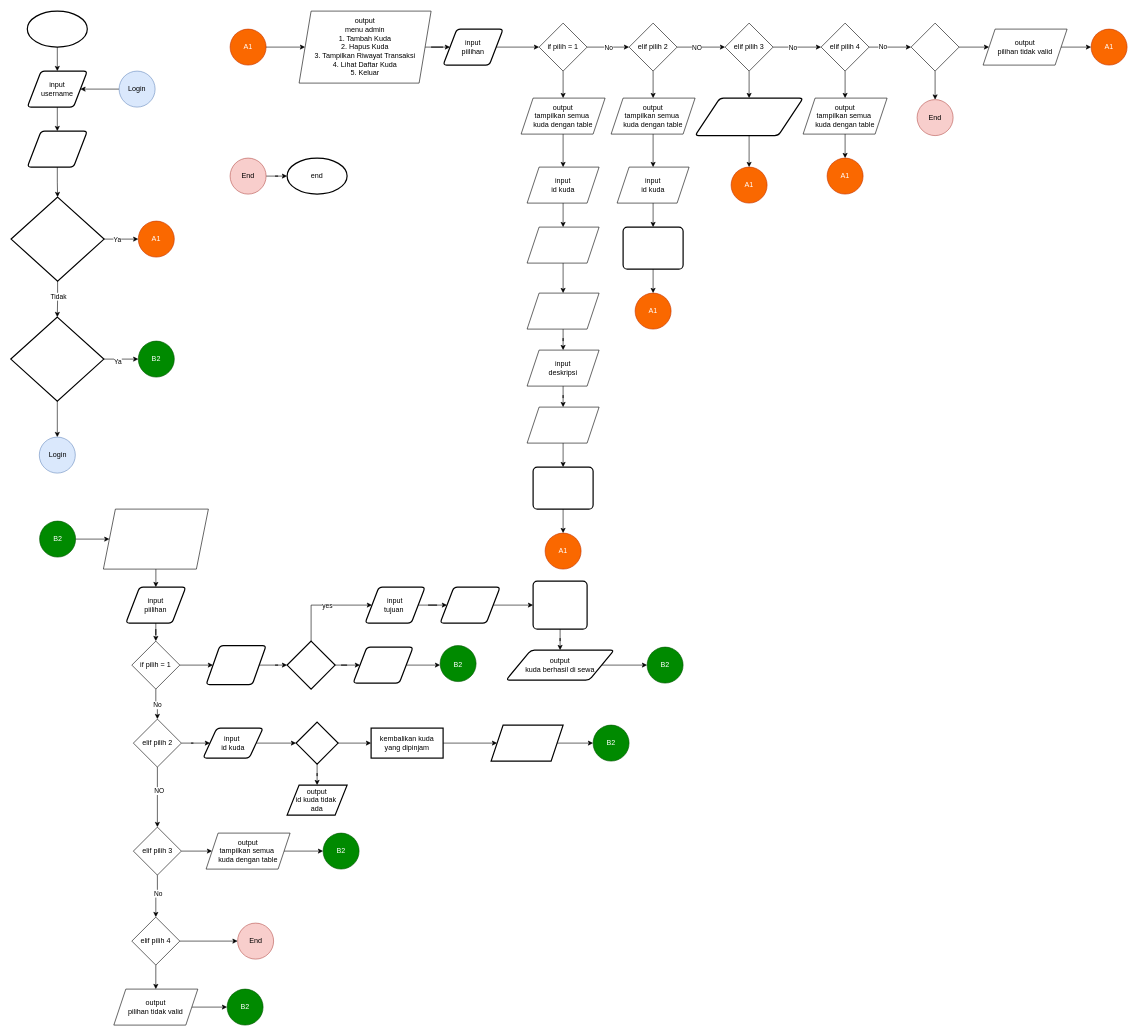
This 1138x1036 diagram has some shape labels left out. The centre of each missing label's shape, as x and y in pixels:
apakah id benar: (x=316, y=742)
apakah id tersedia: (x=310, y=664)
apakah user rolenya adalah admin: (x=57, y=238)
apakah user rolenya adalah user: (x=57, y=358)
elif pilih 5: (x=934, y=46)
input harga: (x=562, y=424)
input jenis kuda: (x=562, y=310)
input masukan id kuda: (x=235, y=665)
input nama kuda: (x=562, y=244)
input password: (x=57, y=148)
input waktu sewa: (x=469, y=604)
menambahkan kuda baru ke list: (x=562, y=487)
menghapus kuda yang dipilih: (x=652, y=247)
mulai: (x=57, y=28)
output kuda berhasil dikembalikan: (x=526, y=742)
output kuda tidak tersedia: (x=382, y=664)
output menampilkan riwayat transaksi dengan tabel: (x=748, y=116)
output menu user 1. Sewa Kuda 2. Kembalikan Kuda 3. Lihat Daftar Kuda 4. Keluar: (x=155, y=538)
total harga = waktu sewa*harga: (x=559, y=604)
